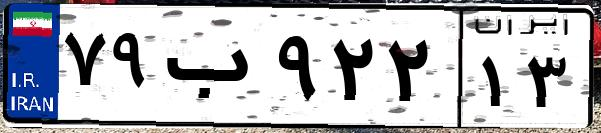1: (475, 38, 525, 113)
2: (385, 28, 445, 110), (330, 28, 385, 110)
3: (525, 38, 570, 115)
7: (57, 26, 110, 100)
9: (270, 28, 330, 110), (110, 28, 158, 98)
ب: (158, 20, 270, 120)
